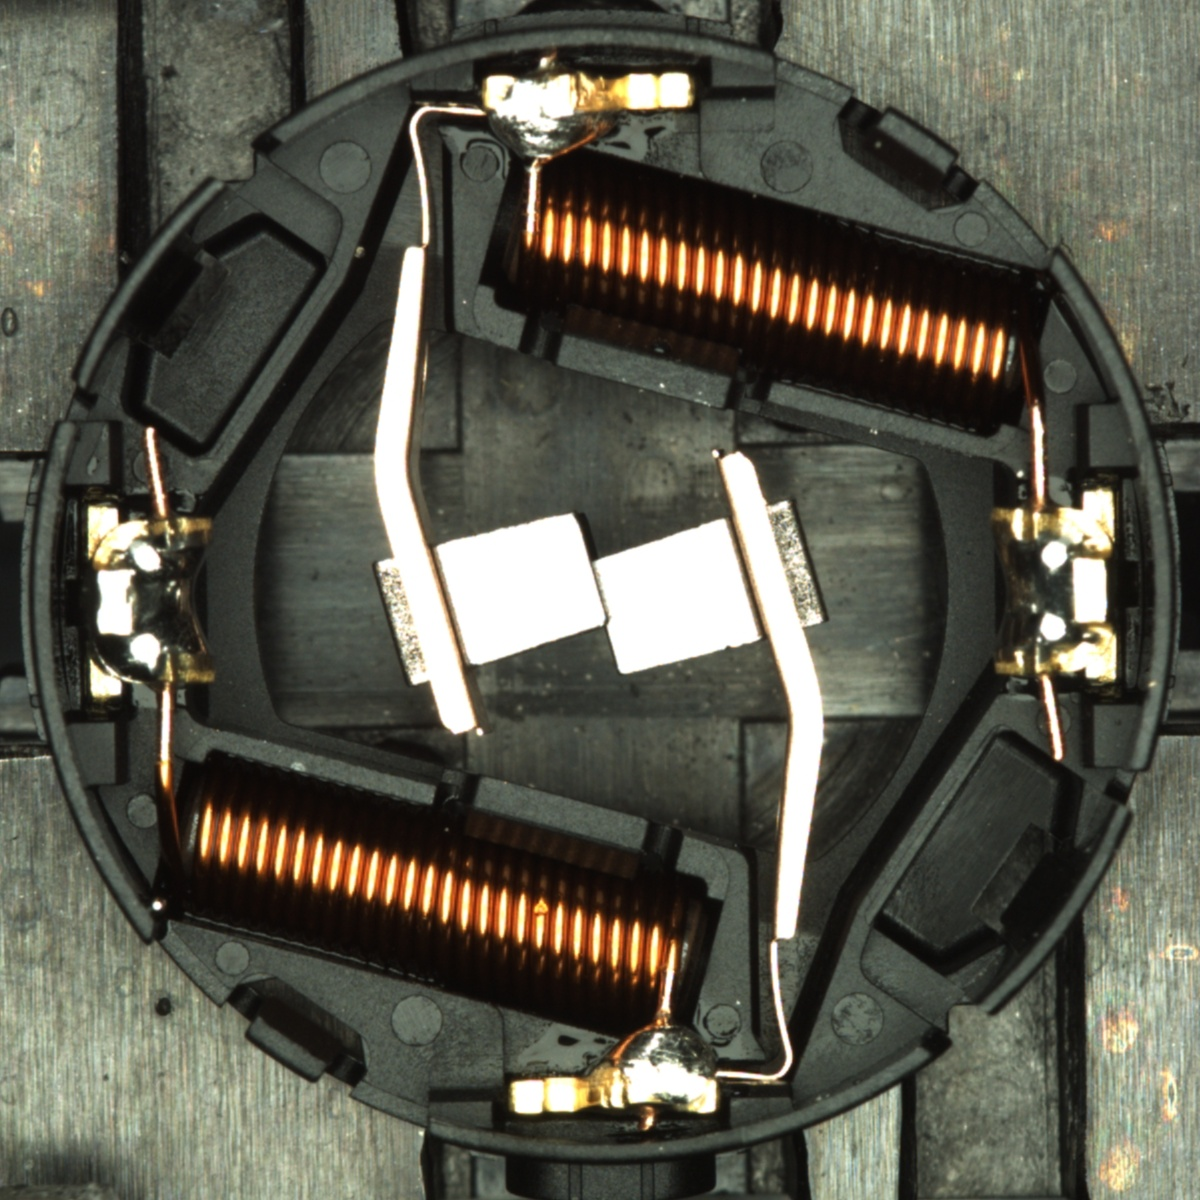1: (253, 31, 482, 255), (711, 929, 940, 1153)
2: (711, 31, 940, 255), (253, 929, 482, 1153)
3: (23, 255, 253, 480), (940, 704, 1170, 929)
4: (253, 255, 482, 480), (711, 704, 940, 929)
5: (482, 143, 711, 368), (482, 816, 711, 1041)
6: (711, 255, 940, 480), (253, 704, 482, 929)
7: (940, 255, 1170, 480), (23, 704, 253, 929)
bui_chi: (148, 896, 168, 916)
cacbon: (393, 499, 800, 685)
chau_dien: (79, 500, 220, 702), (983, 488, 1124, 688)
tay_choi: (481, 68, 698, 169), (508, 1019, 721, 1117)
thanh_de: (953, 789, 1141, 1032), (58, 163, 245, 406)
